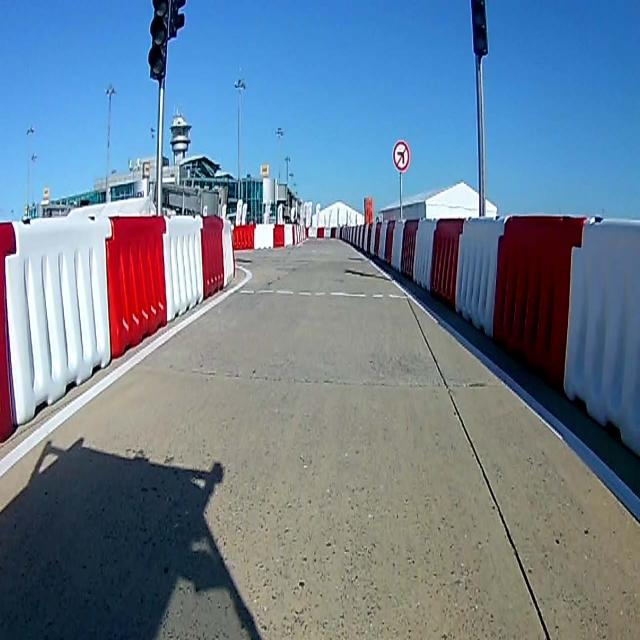soladonulmez: (393, 142, 409, 170)
